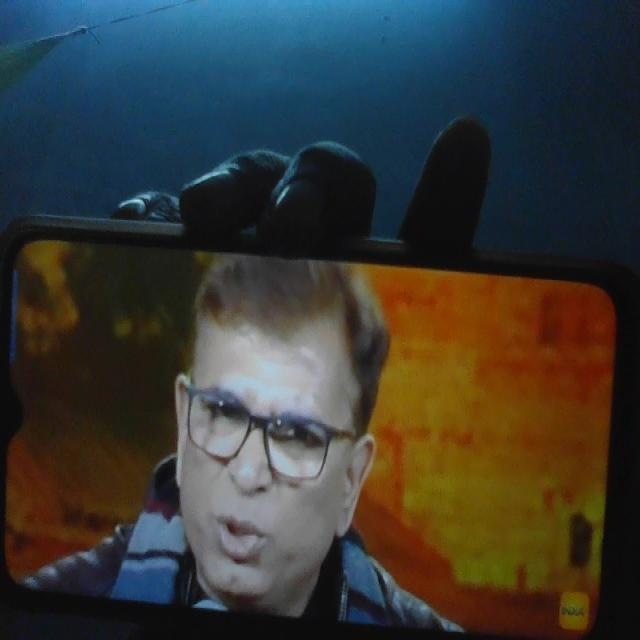fake: (161, 218, 373, 618)
